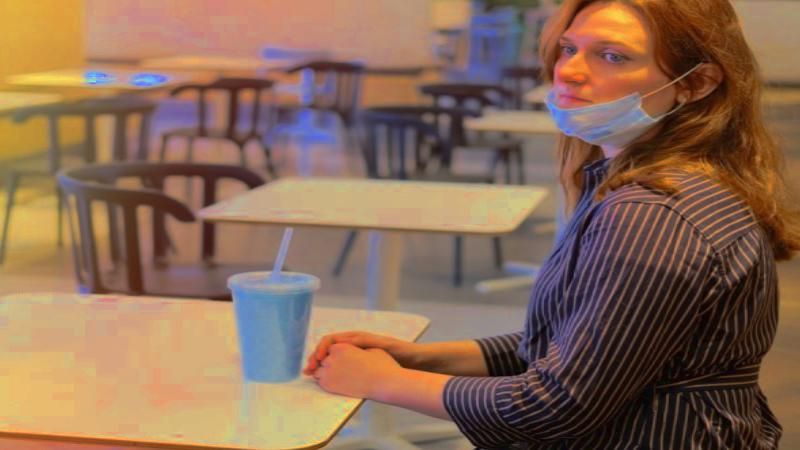mask_weared_incorrect: (545, 1, 753, 148)
